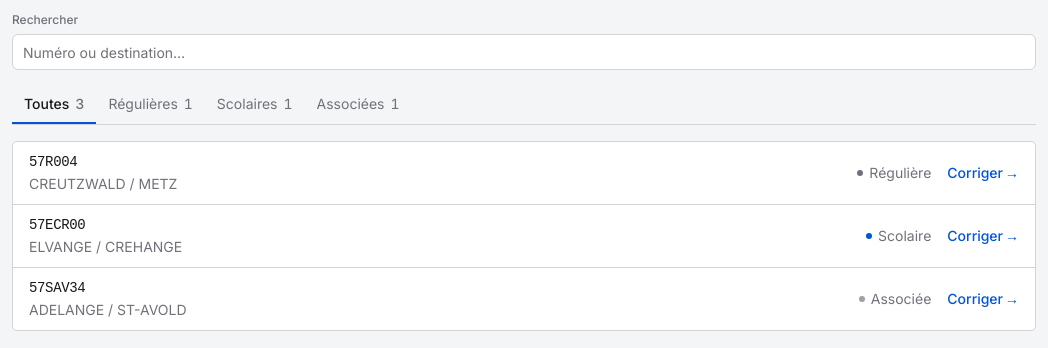
Test case: RouteList — dashboard périmètre › filtre les scolaires et relie vers l’éditeur
Expected: the text "57R004" is shown, [29, 154, 77, 170]
Click the tab "Scolaires1". click: (255, 105)
box: [205, 86, 305, 124]
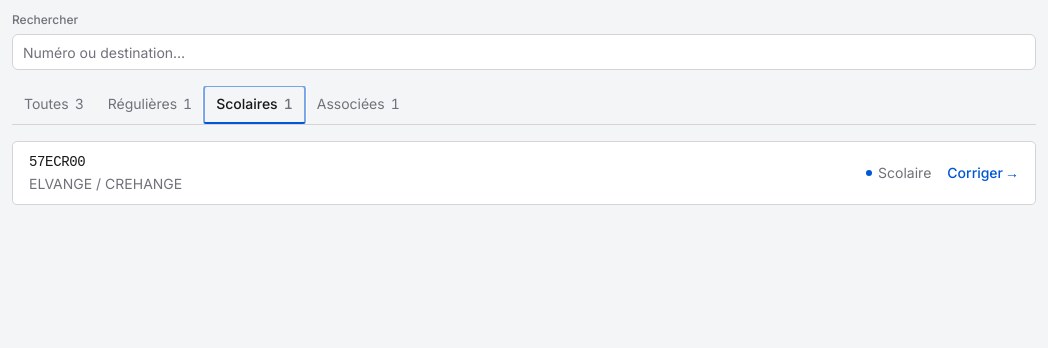
Expected: the text "57ECR00" is shown, [29, 154, 85, 170]
Result: the link "57R004" is gone
